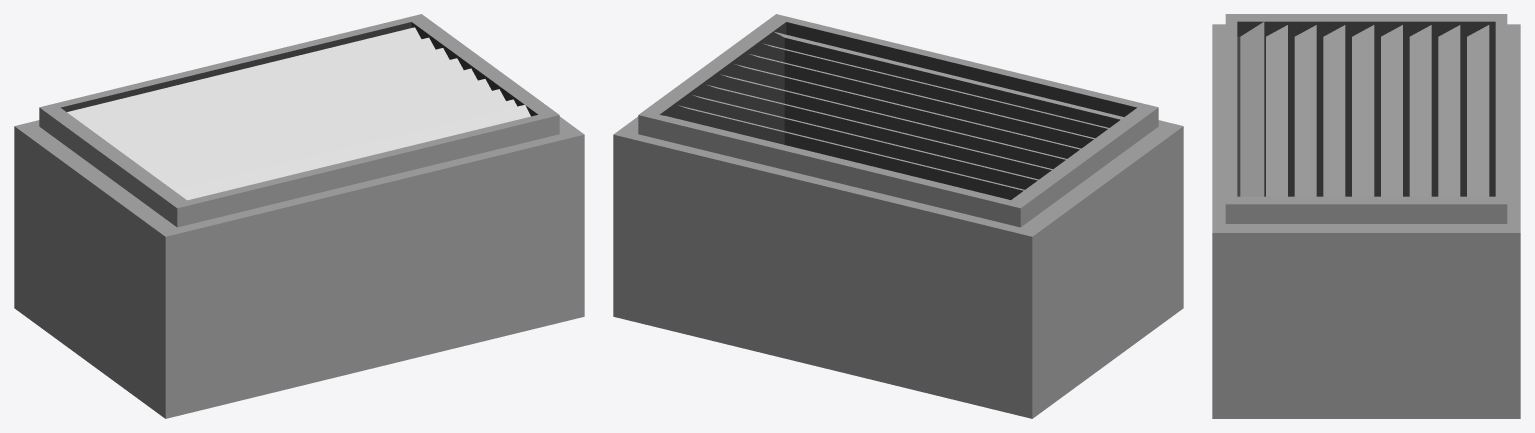
File: Vent1.fbx
3 views of the same model, side by side, from view 1: azimuth 30°, elevation 25°; view 2: azimuth 150°, elevation 25°; view 3: azimuth 270°, elevation 25° (orthographic). The views are drawn at different scales.
Visible parts, largest first — view 1: vents_; view 2: vents_; view 3: vents_.
Boxes of the visible parts, x1,y1,x2,y2 form: vents_: [14, 14, 584, 418]; vents_: [613, 14, 1183, 418]; vents_: [1212, 14, 1520, 418].
Bounding box in the file's own units: 325 × 149 × 203.
